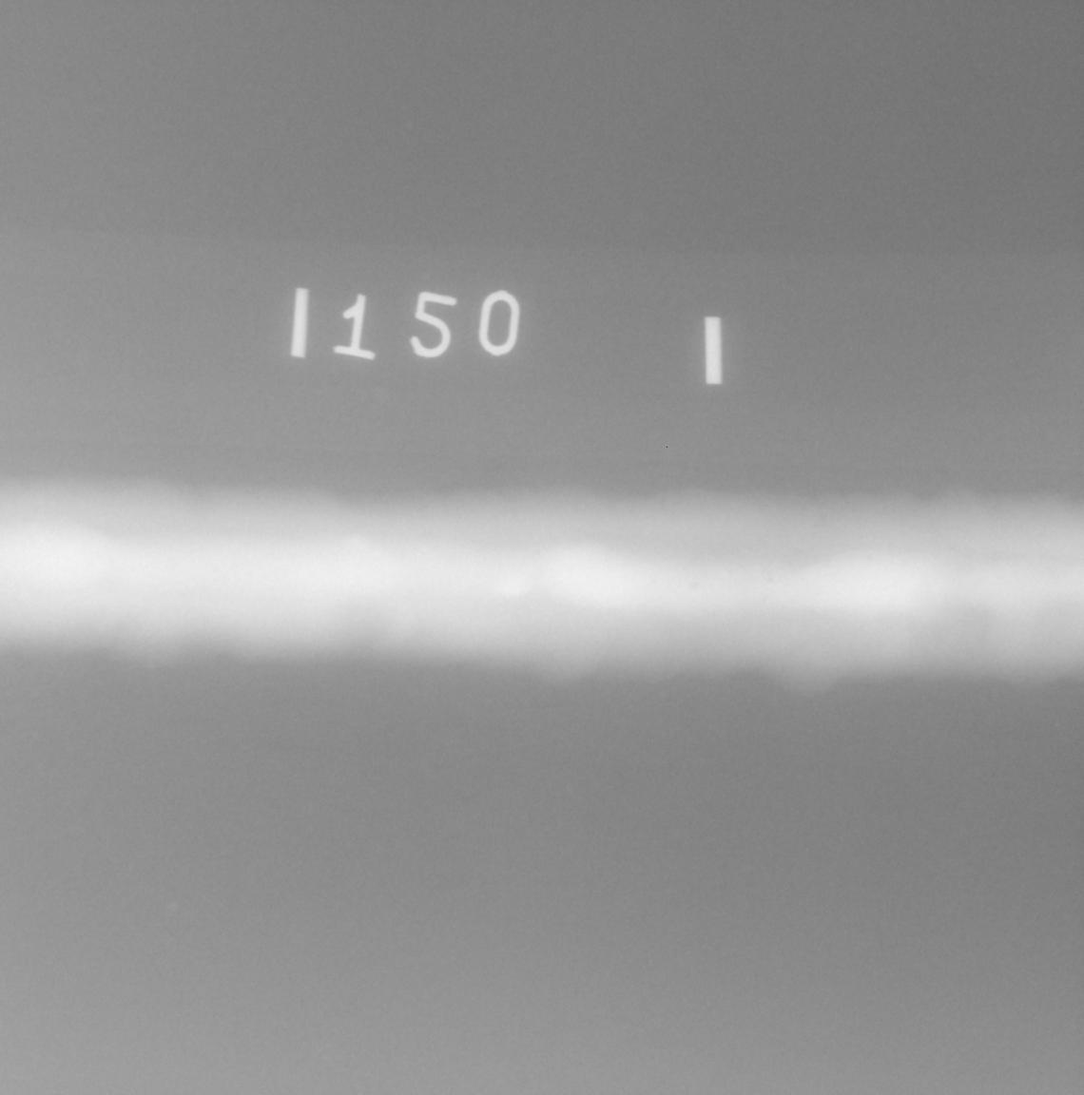Pore/Porosity: (690, 582, 699, 591), (652, 578, 657, 583), (535, 549, 540, 554), (768, 578, 773, 583), (867, 556, 872, 560)
